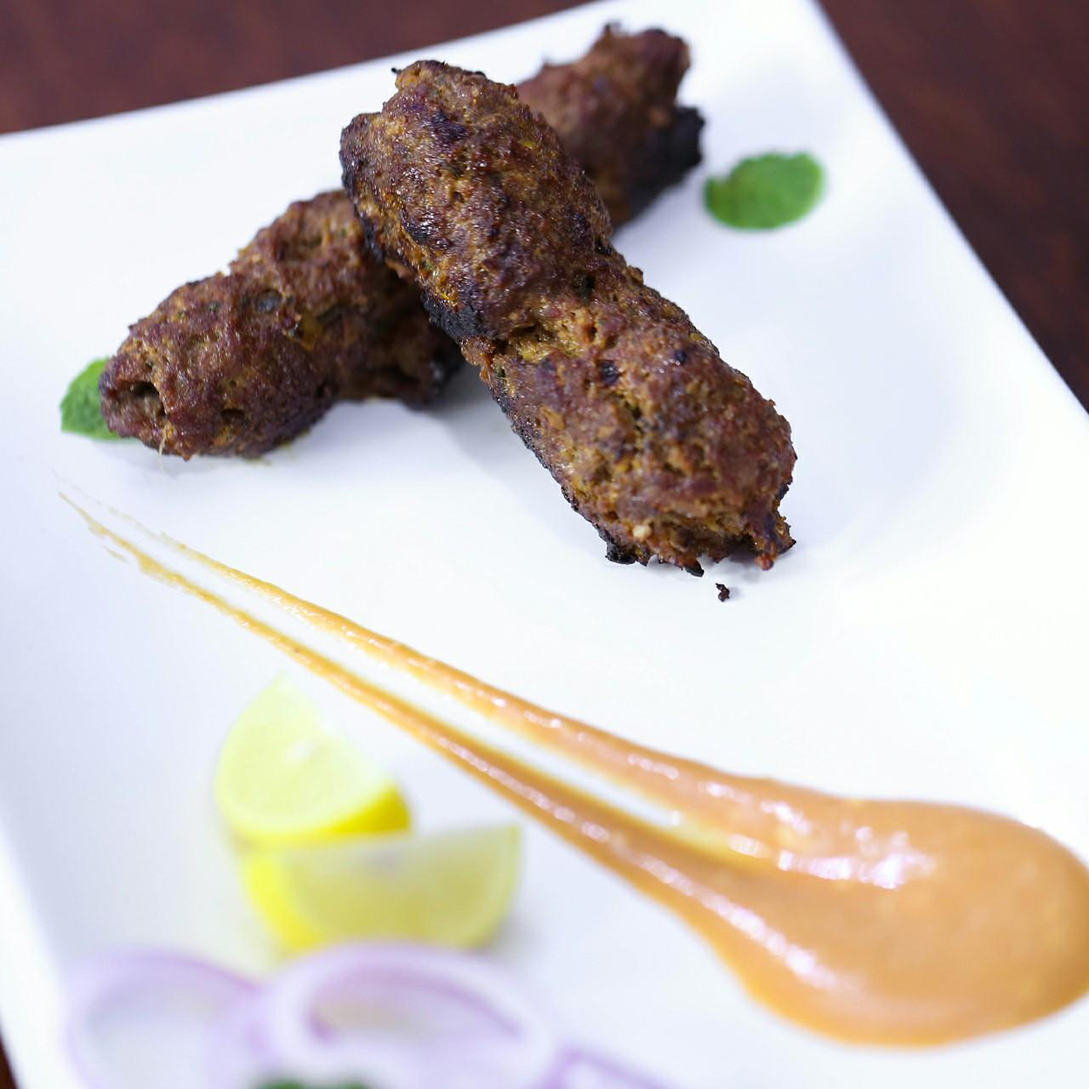Kebab: (100, 24, 704, 460), (339, 60, 799, 577)
